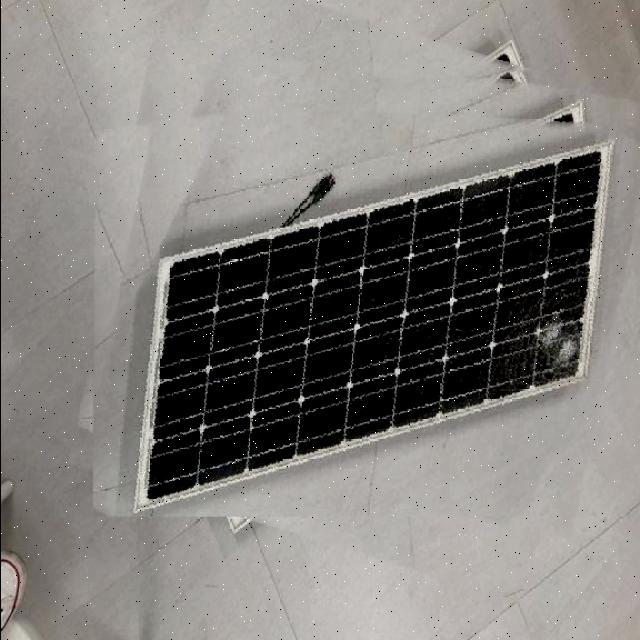Structural Damage: (498, 296, 584, 392)
